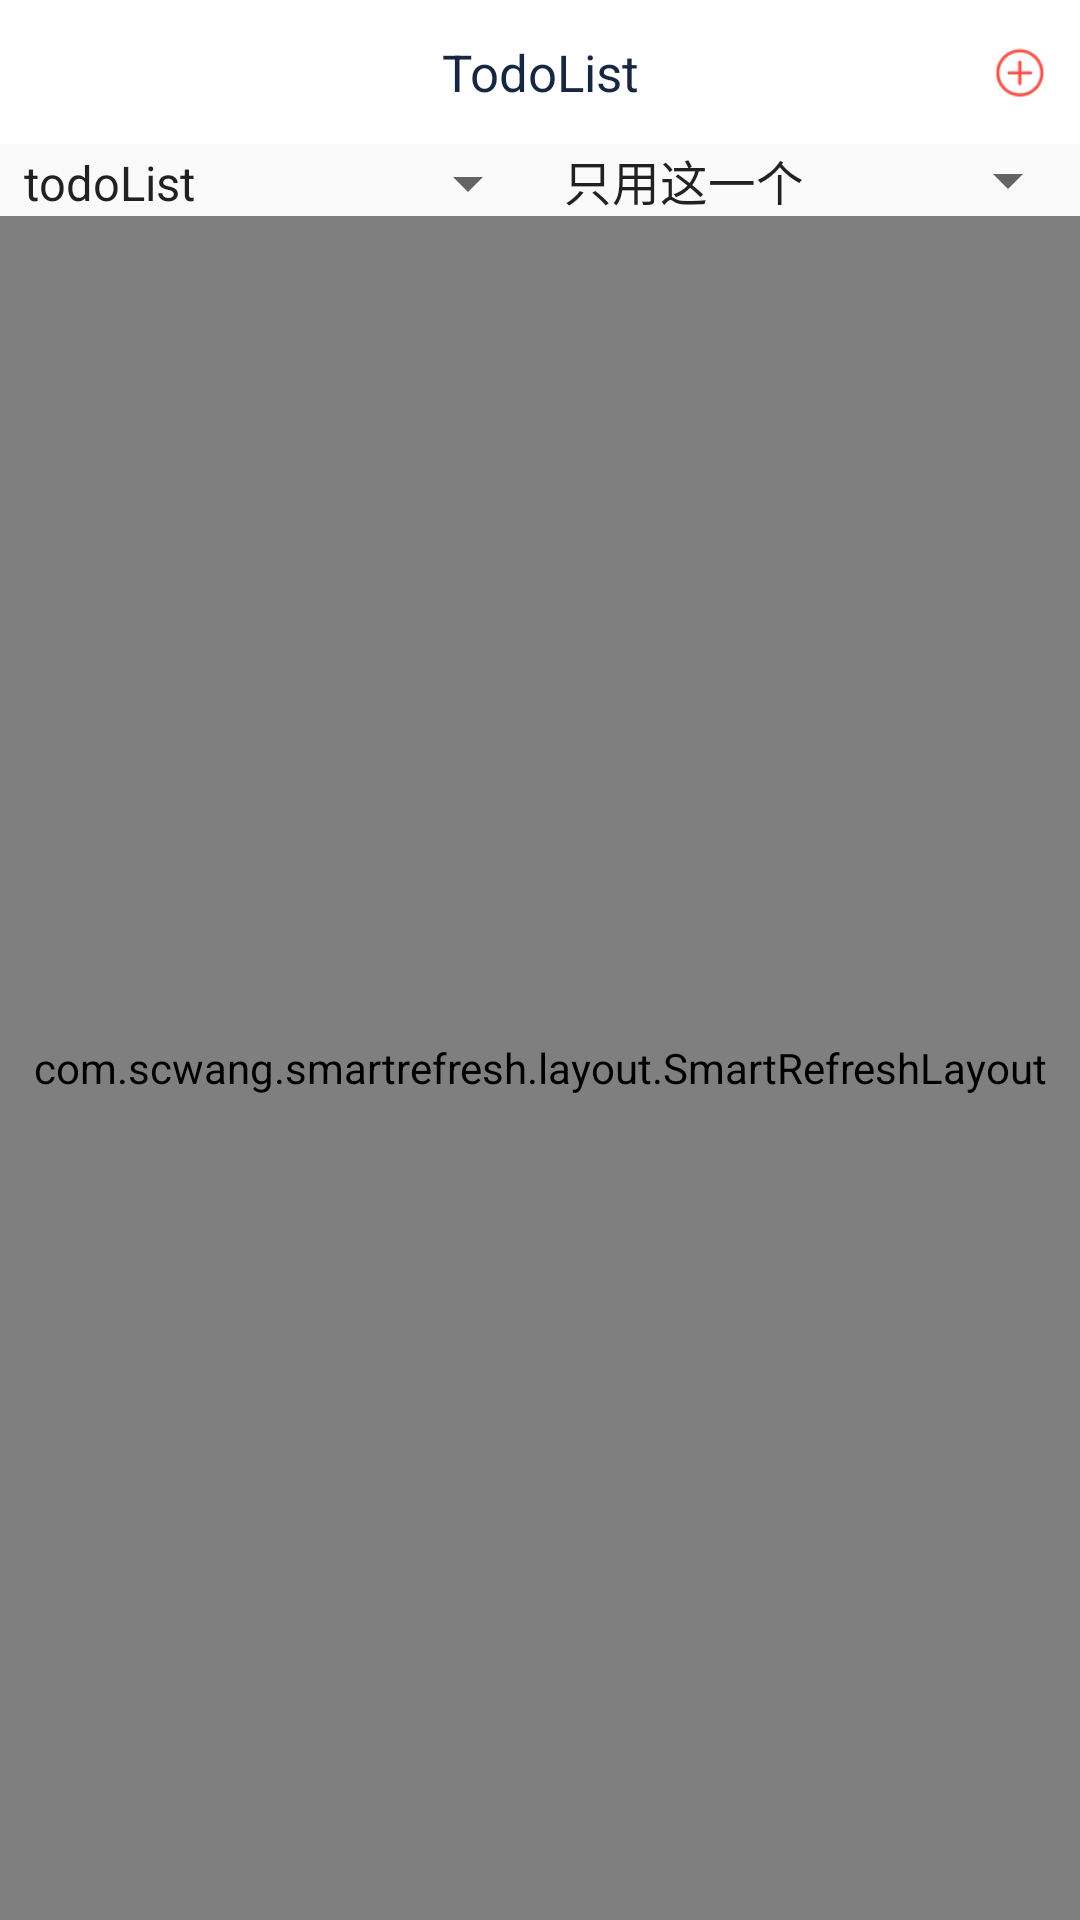

Icon bounding boxes for this 1080×1920 phone screenshot, format (x1, y1, x2, y2):
add select: (996, 48, 1044, 97)
